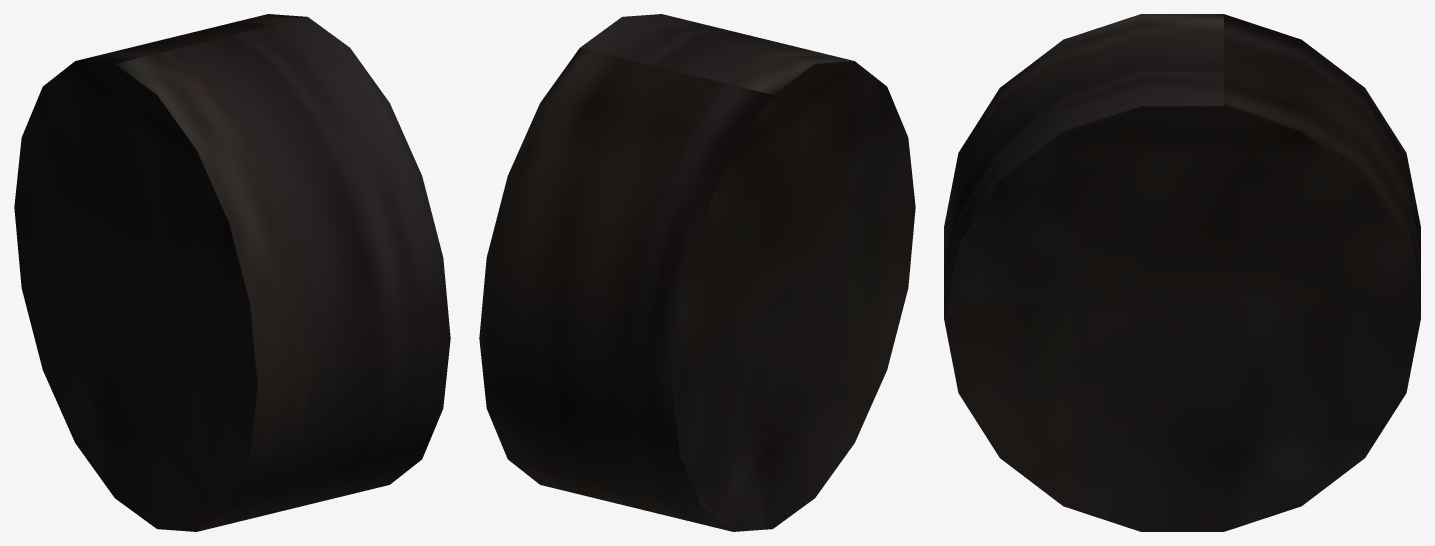
The model's file is walle_wheel.dae.
3 views of the same model, side by side, from view 1: azimuth 30°, elevation 25°; view 2: azimuth 150°, elevation 25°; view 3: azimuth 270°, elevation 25° (orthographic). The views are drawn at different scales.
Parts seen in each view (by area): view 1: Object002; view 2: Object002; view 3: Object002.
Part boxes in pixels (box(x1,y1,x2,y2)): Object002: box(14, 14, 450, 531); Object002: box(479, 14, 915, 531); Object002: box(944, 14, 1420, 531).
Bounding box in the file's own units: 0.2192 × 0.4782 × 0.471.
Materials: 1 (1 with a texture image).
